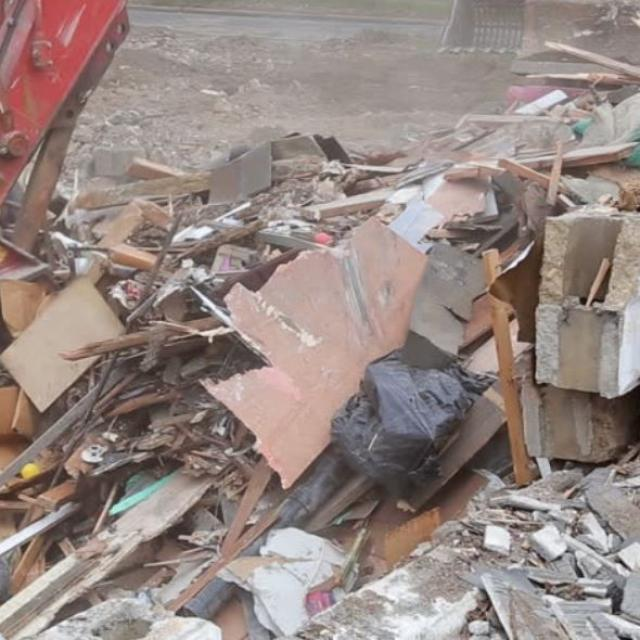collapsed_building: (0, 132, 639, 634)
